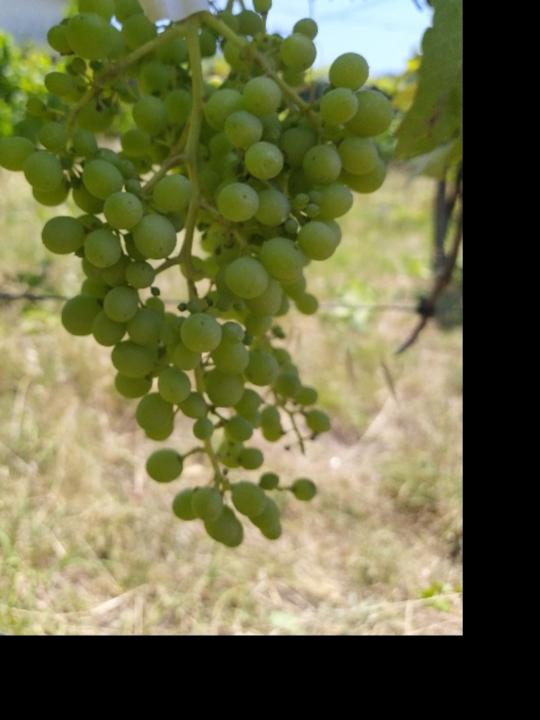grape: (0, 0, 400, 549)
